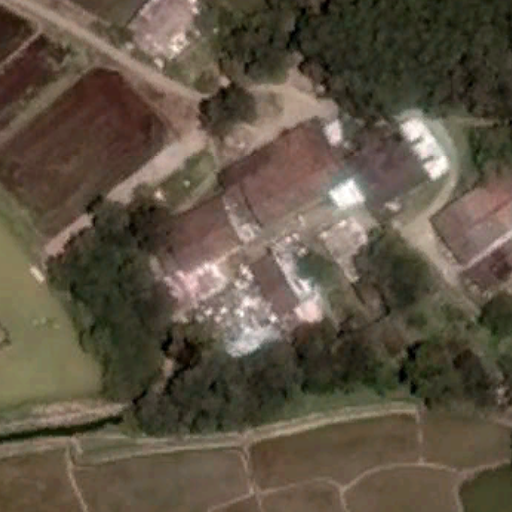msw: (171, 253, 278, 360)
